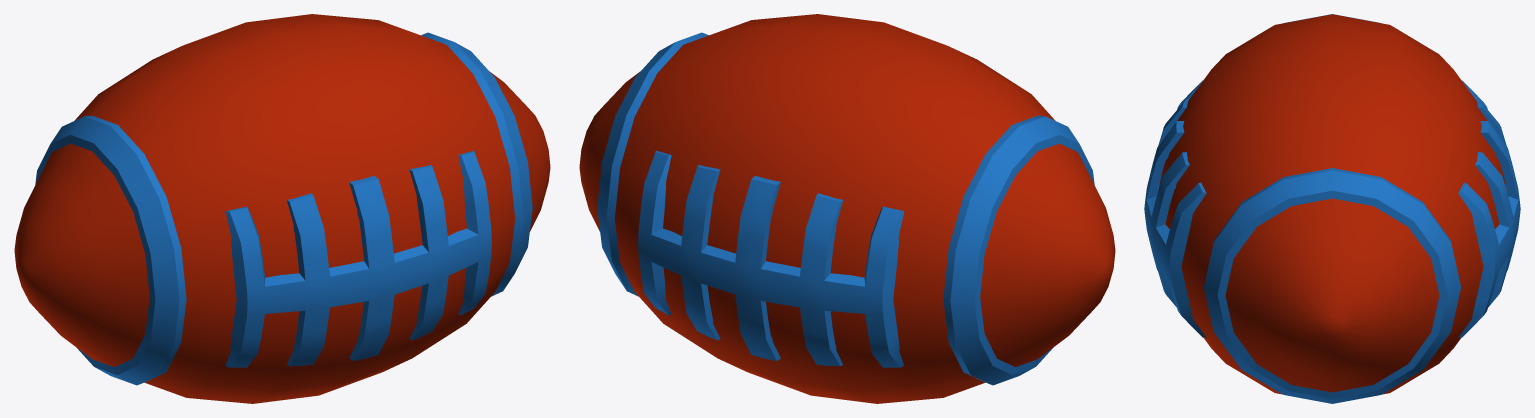
Rendered from Soccer ball.FBX.
3 views of the same model, side by side, from view 1: azimuth 30°, elevation 25°; view 2: azimuth 150°, elevation 25°; view 3: azimuth 270°, elevation 25° (orthographic). The views are drawn at different scales.
Visible parts, largest first — view 1: Soccer ball; view 2: Soccer ball; view 3: Soccer ball.
Part boxes in pixels (x1,y1,x2,y2): Soccer ball: [14, 14, 550, 403]; Soccer ball: [579, 14, 1115, 403]; Soccer ball: [1144, 14, 1520, 403].
Bounding box in the file's own units: 1100 × 736 × 698.
